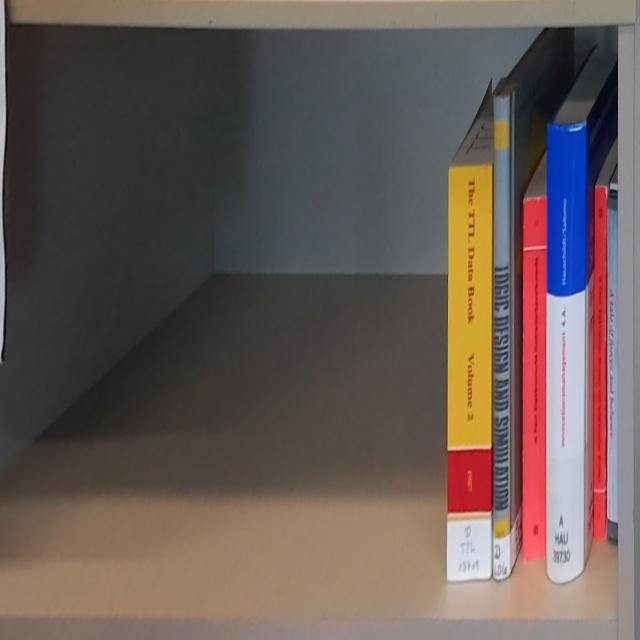Book Spine: (447, 166, 493, 582), (546, 121, 586, 586), (493, 87, 511, 579), (522, 196, 546, 558), (592, 185, 608, 544), (607, 191, 618, 543)
